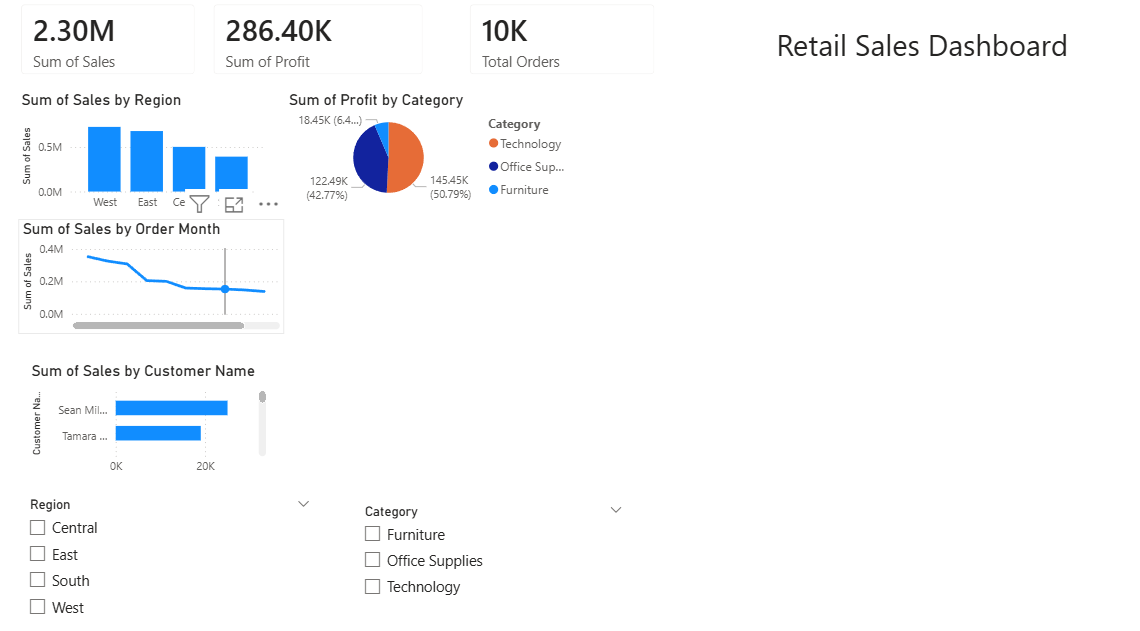

What the dashboard file says about the page in this screenshot:
{"tool":"powerbi","page":{"name":"Page 1","canvas":[1280,720],"ordinal":0},"visuals":[{"type":"cardVisual","fields":{"Data":["Sum(Superstore.Sales)"]},"box":[9.6,0,225.5,111.4],"z":0},{"type":"cardVisual","fields":{"Data":["Superstore.Total Orders"]},"box":[503.3,0,237.9,111.4],"z":1000},{"type":"cardVisual","fields":{"Data":["Sum(Superstore.Profit)"]},"box":[221.4,0,264,111.4],"z":2000},{"type":"clusteredColumnChart","fields":{"Category":["Superstore.Region"],"Y":["Sum(Superstore.Sales)"]},"box":[22,111.4,279.2,141.6],"z":3000},{"type":"pieChart","fields":{"Category":["Superstore.Category"],"Y":["Sum(Superstore.Profit)"]},"box":[316.3,111.4,323.2,129.3],"z":4000},{"type":"lineChart","fields":{"Category":["Superstore.Order Month"],"Y":["Sum(Superstore.Sales)"]},"box":[23.4,253,292.9,126.5],"z":5000},{"type":"clusteredBarChart","fields":{"Category":["Superstore.Customer Name"],"Y":["Sum(Superstore.Sales)"]},"box":[33,409.8,268.2,133.4],"z":6000},{"type":"slicer","fields":{"Values":["Superstore.Region"]},"box":[23.4,554.2,332.8,166.4],"z":7000},{"type":"slicer","fields":{"Values":["Superstore.Category"]},"box":[391.9,561.1,308,159.5],"z":8000},{"type":"textbox","box":[852.6,34.4,382.3,63.3],"z":8001}]}

Visuals, with their boxes in screenshot pixels (x1, y1, x2, y2), scaled from the page's 1280x720 canvas onto the 1140x631 screenshot:
cardVisual - Sum(Superstore.Sales): 9/0/209/98
cardVisual - Superstore.Total Orders: 448/0/660/98
cardVisual - Sum(Superstore.Profit): 197/0/432/98
clusteredColumnChart - Superstore.Region x Sum(Superstore.Sales): 20/98/268/222
pieChart - Superstore.Category x Sum(Superstore.Profit): 282/98/570/211
lineChart - Superstore.Order Month x Sum(Superstore.Sales): 21/222/282/333
clusteredBarChart - Superstore.Customer Name x Sum(Superstore.Sales): 29/359/268/476
slicer - Superstore.Region: 21/486/317/630
slicer - Superstore.Category: 349/492/623/630
textbox: 759/30/1100/86
